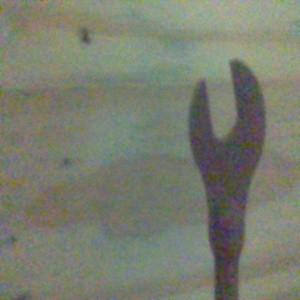spanner: (188, 58, 268, 300)
